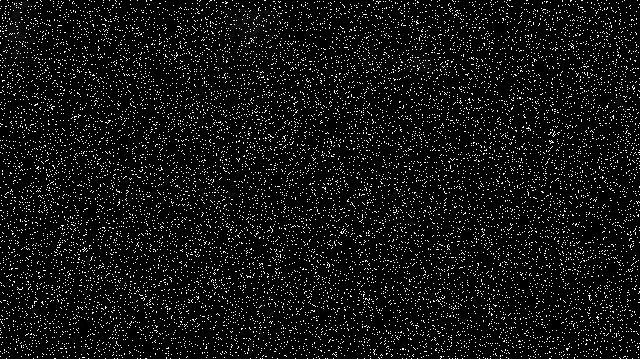pot: (500, 105, 625, 269), (0, 70, 58, 228)
